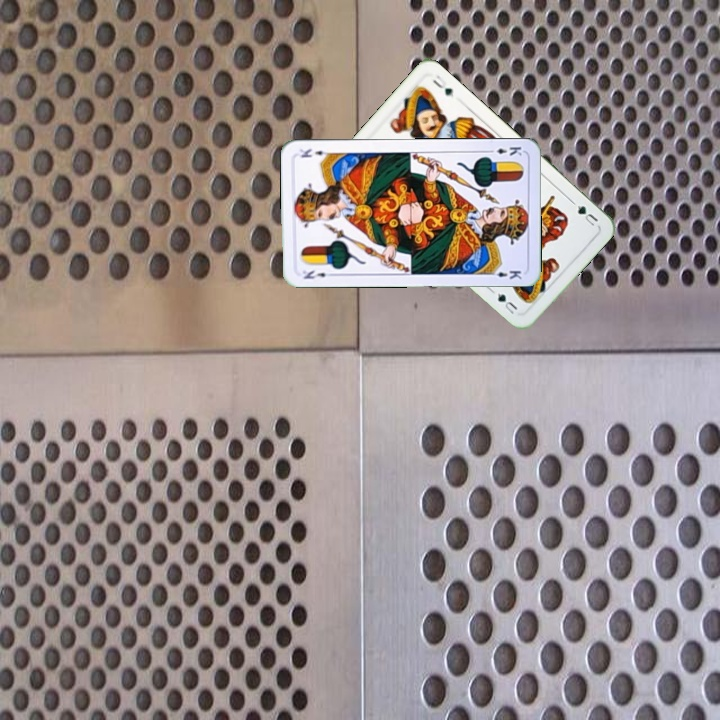EK: (484, 143, 524, 158), (298, 266, 336, 281)
GU: (572, 201, 601, 229)
